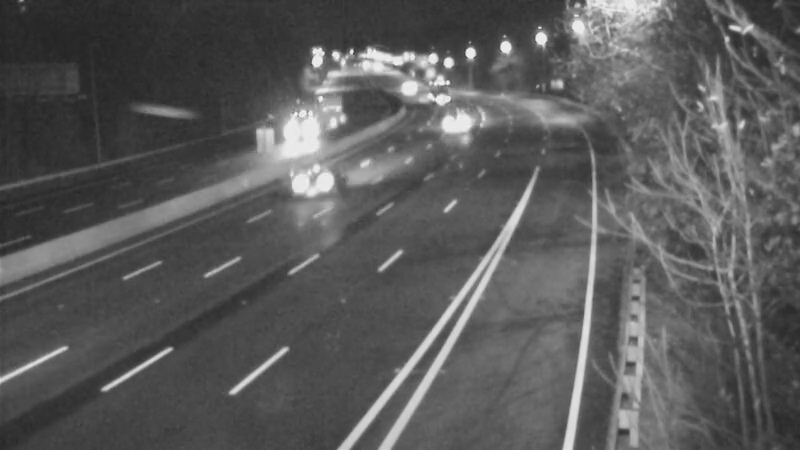vehicle: (277, 146, 357, 226), (383, 61, 433, 111), (413, 65, 463, 115), (434, 94, 484, 144), (274, 109, 324, 159)
